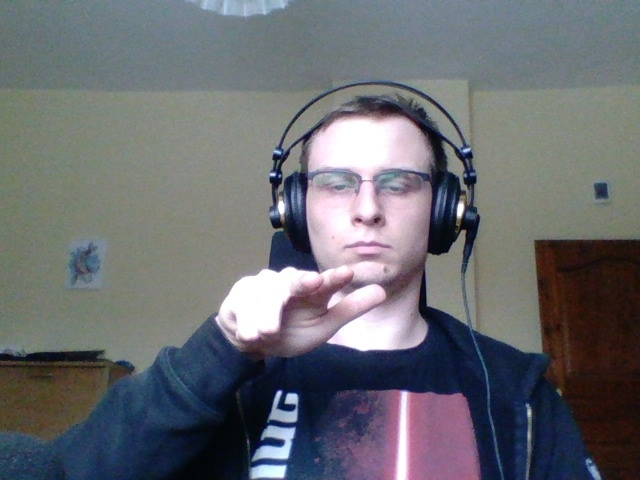no: (199, 240, 389, 377)
